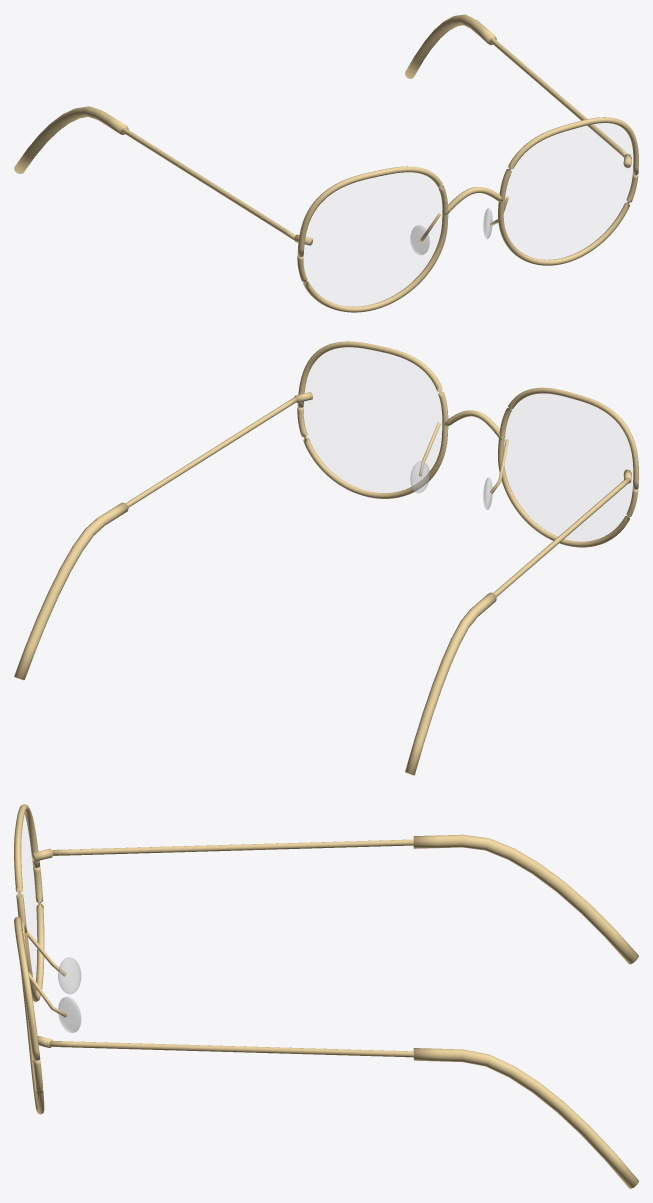
The model's file is round.glb.
3 views of the same model, one above another, from view 1: azimuth 30°, elevation 25°; view 2: azimuth 150°, elevation 25°; view 3: azimuth 270°, elevation 25° (orthographic). The views are drawn at different scales.
Parts seen in each view (by area): view 1: frame, temples, pads, metal; view 2: temples, frame, pads, metal; view 3: temples, frame, pads, metal.
Part boxes in pixels (x1=…): frame: x1=297, y1=117, x2=638, y2=312; temples: x1=14, y1=14, x2=627, y2=241; pads: x1=410, y1=208, x2=492, y2=255; metal: x1=294, y1=154, x2=631, y2=245; temples: x1=14, y1=396, x2=631, y2=775; frame: x1=297, y1=341, x2=638, y2=547; pads: x1=410, y1=461, x2=492, y2=509; metal: x1=294, y1=392, x2=631, y2=493; temples: x1=47, y1=834, x2=638, y2=1188; frame: x1=14, y1=804, x2=44, y2=1114; pads: x1=58, y1=957, x2=81, y2=1033; metal: x1=27, y1=848, x2=66, y2=1047.
Size of the model in its own units: 0.1354 by 0.0545 by 0.1555.
